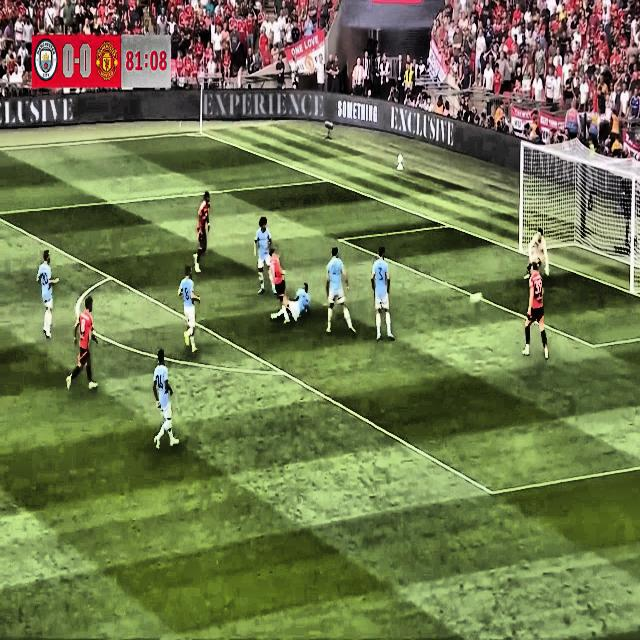ball: (465, 284, 485, 318)
goal_keeper: (523, 228, 553, 287)
players: (63, 291, 105, 403), (145, 346, 182, 458), (521, 253, 553, 366), (174, 253, 206, 353), (324, 245, 356, 343), (370, 243, 400, 342), (251, 214, 282, 302), (35, 243, 59, 345), (271, 273, 313, 328), (266, 241, 292, 327), (194, 179, 216, 276)
